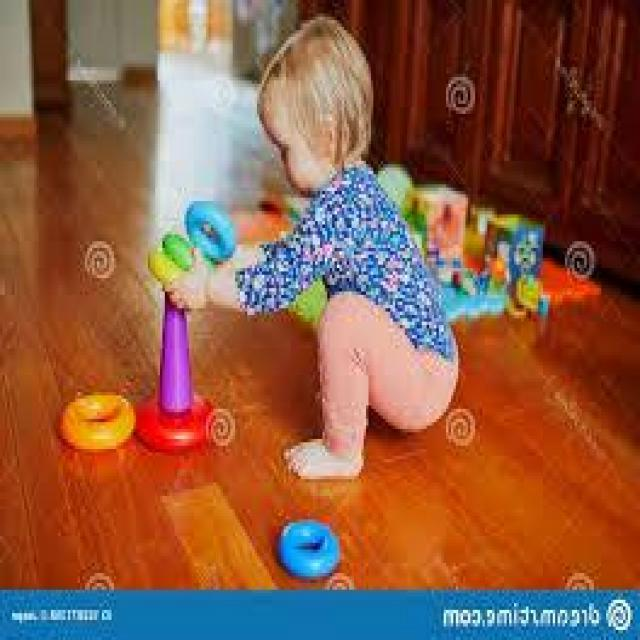child: (53, 13, 461, 573)
